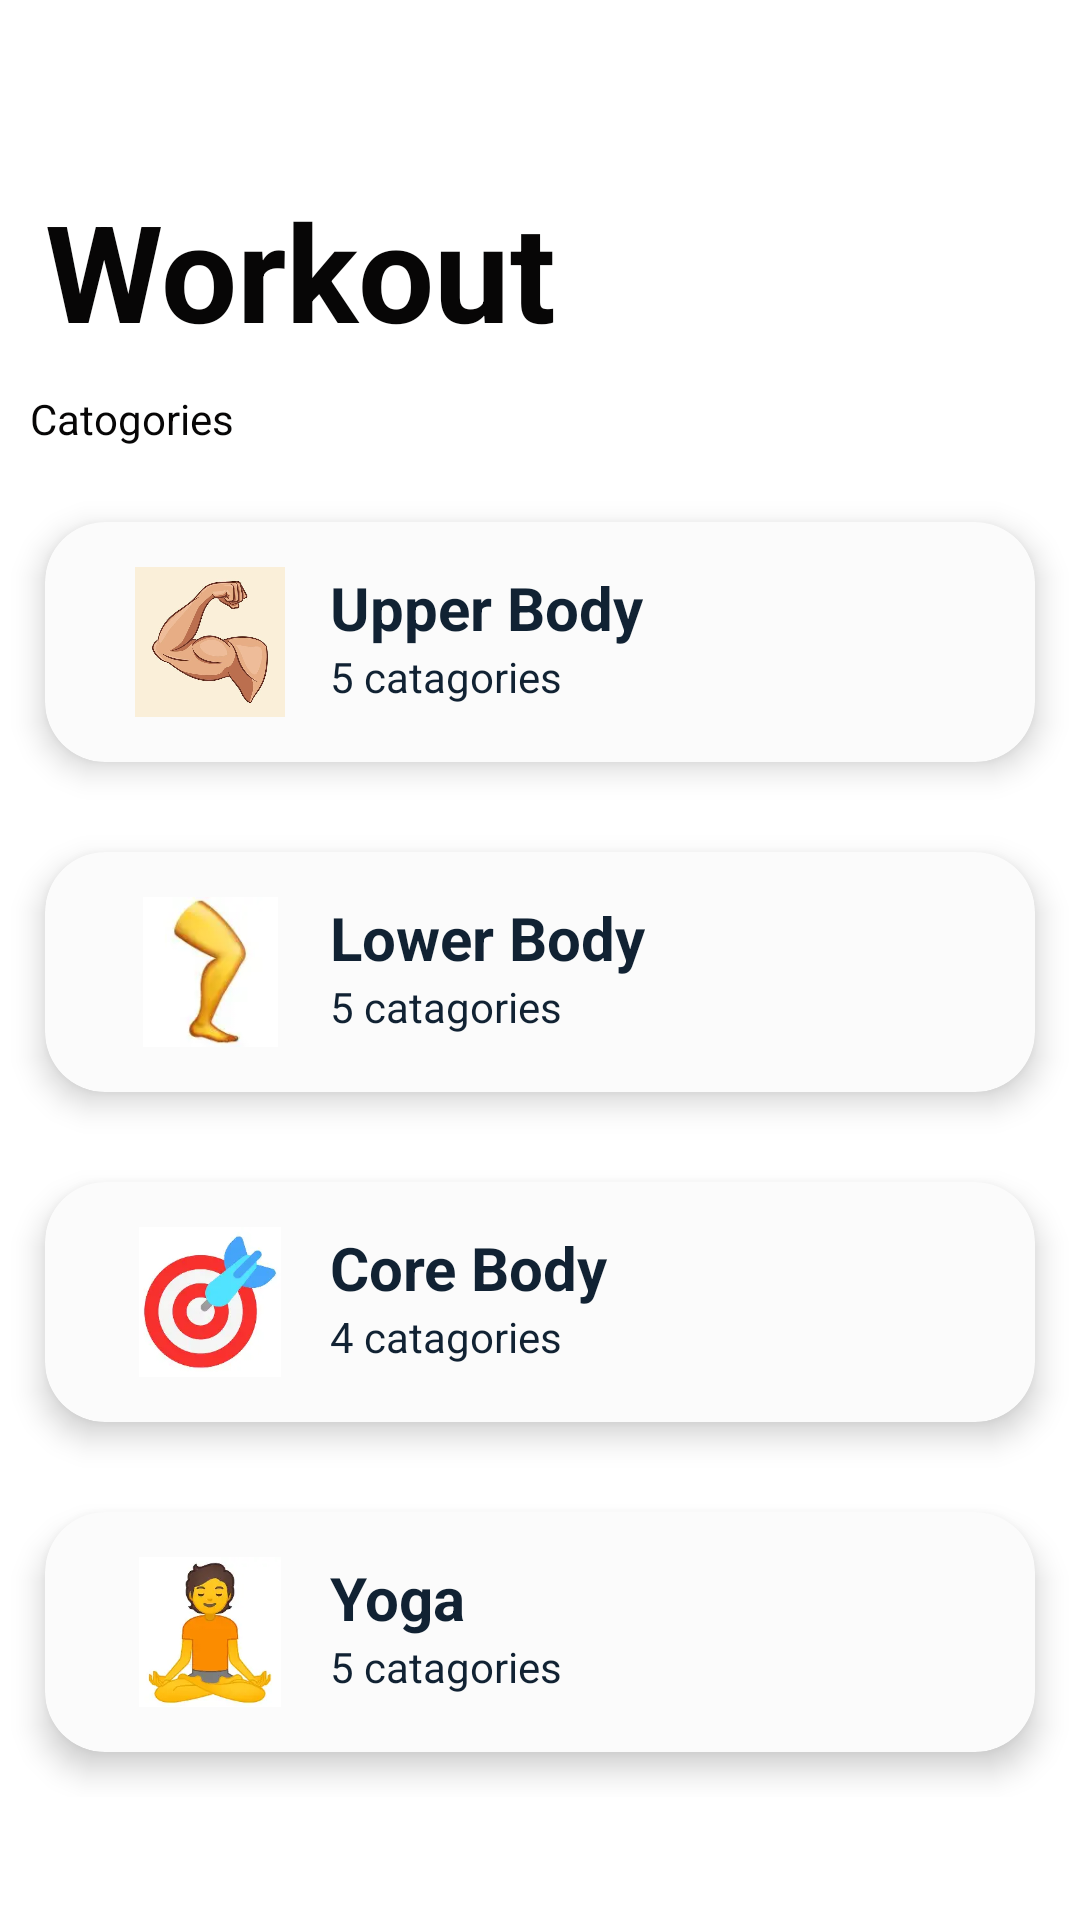

Screen size 1080x1920. Icon name, then its center in pixels as point (x, y):
taget: point (210, 1302)
